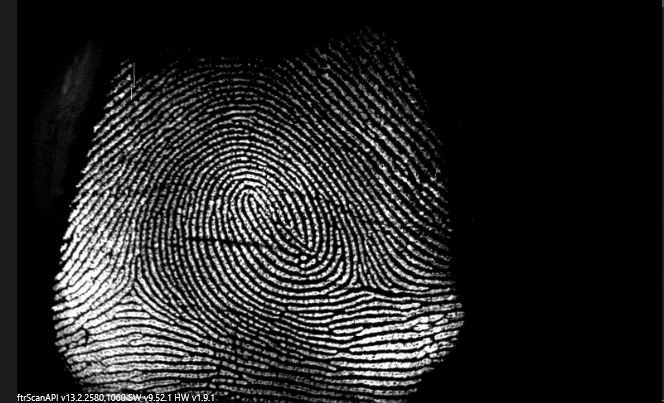deltas: (327, 253, 386, 308), (109, 262, 162, 318)
nucleo: (214, 174, 281, 234)
